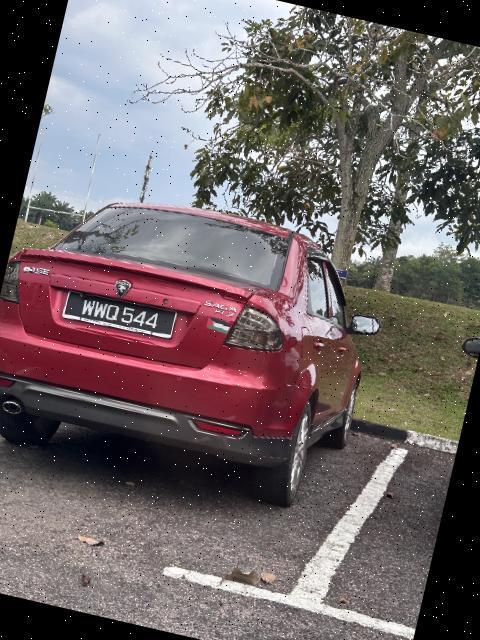License_Plate: (59, 288, 179, 344)
WWQ544: (59, 288, 179, 344)
car: (1, 165, 408, 529)
